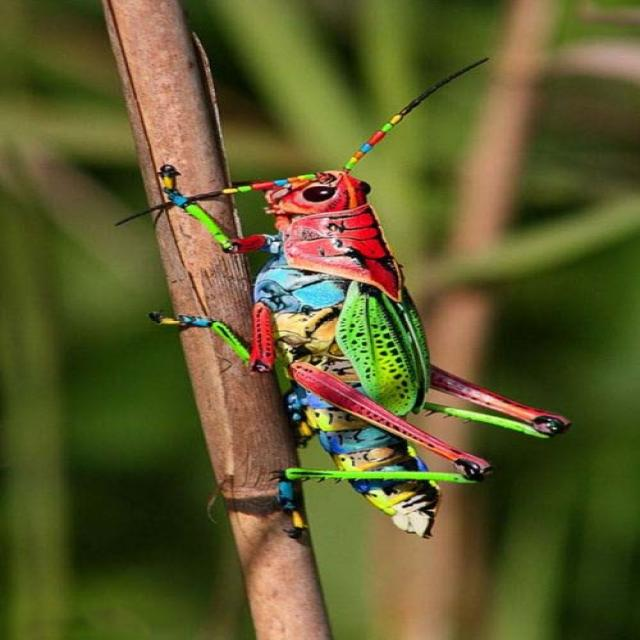ZhaMeng: (167, 117, 568, 524)
